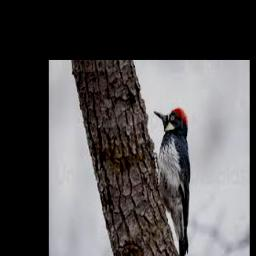Woodpecker: (153, 107, 190, 256)
